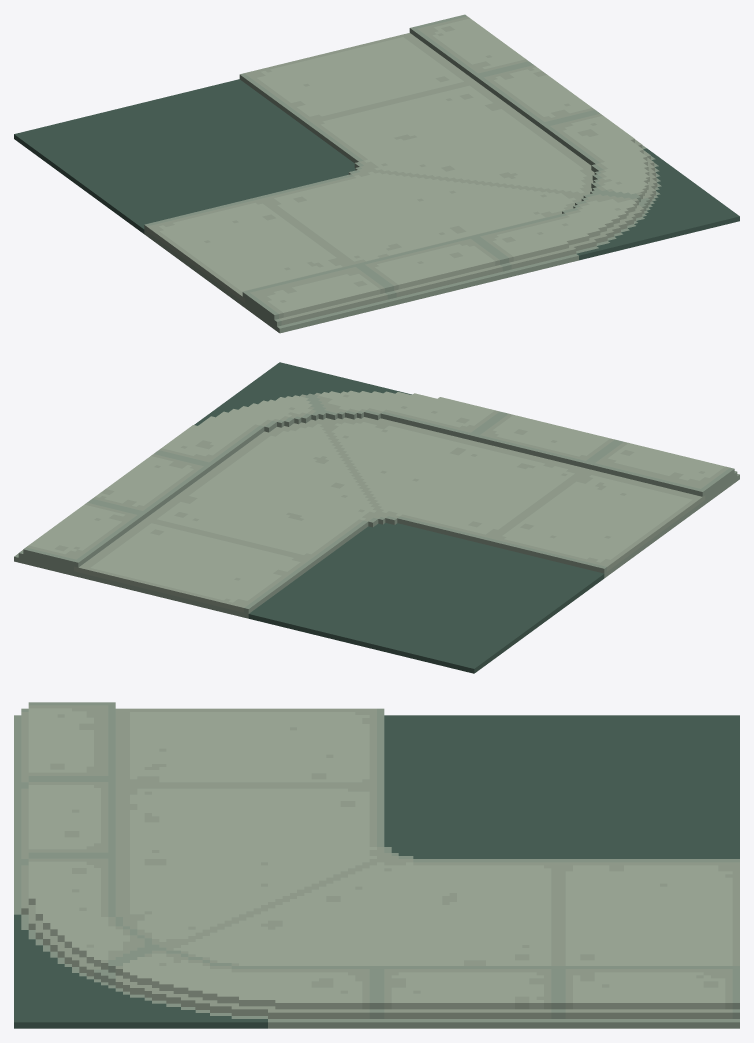
Rendered from Voxel City-2-Sidewalk_Angle.obj.
3 views of the same model, one above another, from view 1: azimuth 30°, elevation 25°; view 2: azimuth 150°, elevation 25°; view 3: azimuth 270°, elevation 25° (orthographic). The views are drawn at different scales.
Parts seen in each view (by area): view 1: Sidewalk_Angle; view 2: Sidewalk_Angle; view 3: Sidewalk_Angle.
Part boxes in pixels (left/top/right/bottom): Sidewalk_Angle: left=14, top=14, right=739, bottom=333; Sidewalk_Angle: left=14, top=362, right=739, bottom=673; Sidewalk_Angle: left=14, top=702, right=739, bottom=1028.
Size of the model in its own units: 5 by 0.15 by 5.
1 material, 1 textured.
